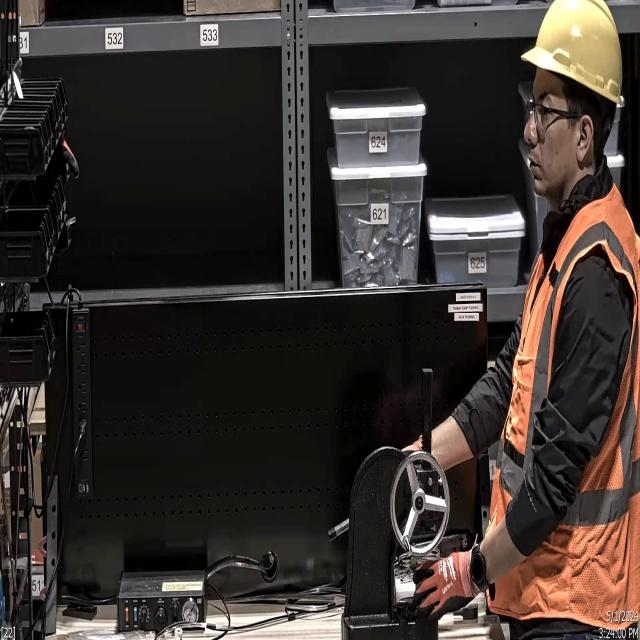gloves: (408, 546, 472, 626)
